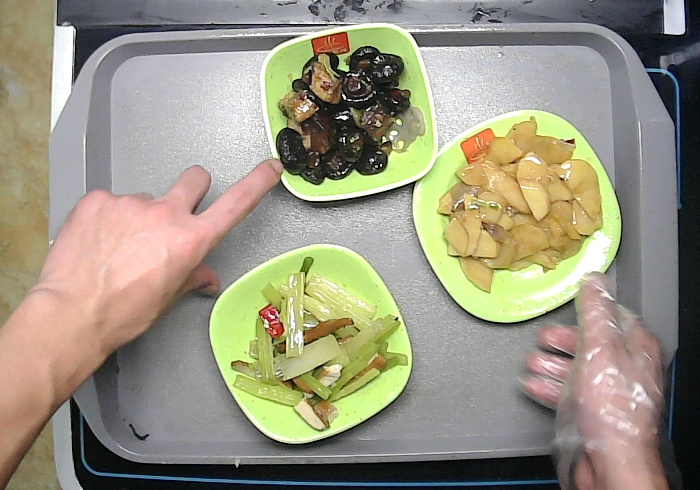SHKJ-Lv_Se_Cai_Die: (207, 242, 413, 447)
SHKJ-Lv_Se_Si_Fang_Cai_Die: (411, 110, 622, 325)
SHKJ-Lv_Se_Xiao_Fang_Die: (259, 23, 438, 203)
